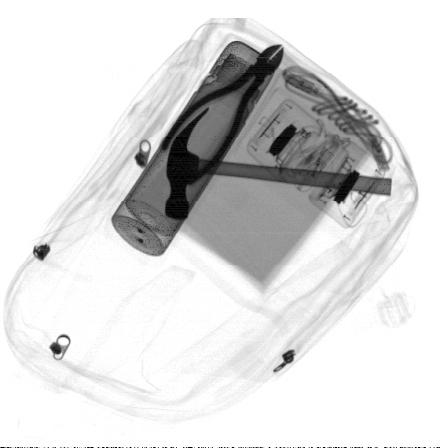Hammer: (165, 107, 392, 219)
Pliers: (161, 42, 284, 186)
